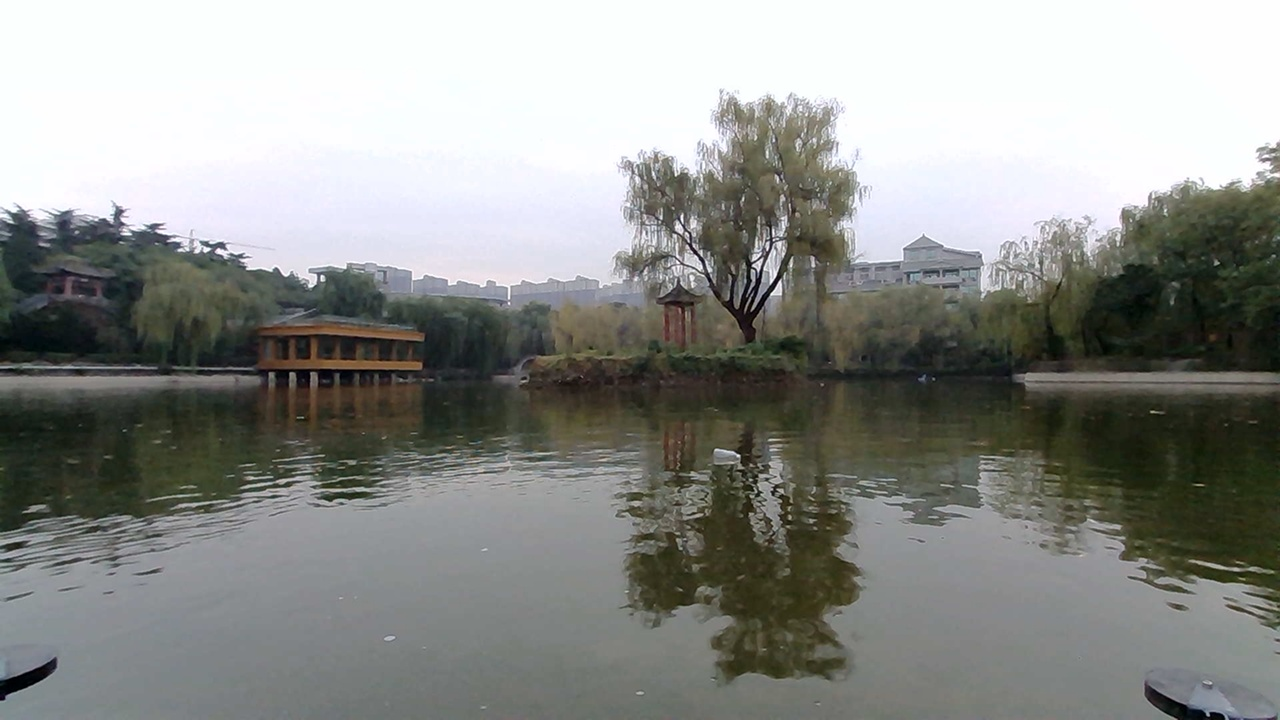bottle: (699, 433, 763, 466)
